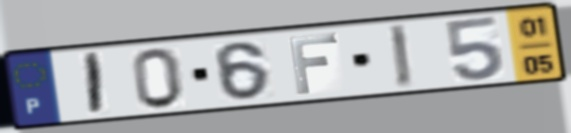0: (128, 44, 187, 112)
5: (441, 14, 508, 83)
6: (211, 39, 273, 103)
F: (285, 31, 341, 96)
I: (384, 21, 417, 91), (84, 50, 106, 118)
